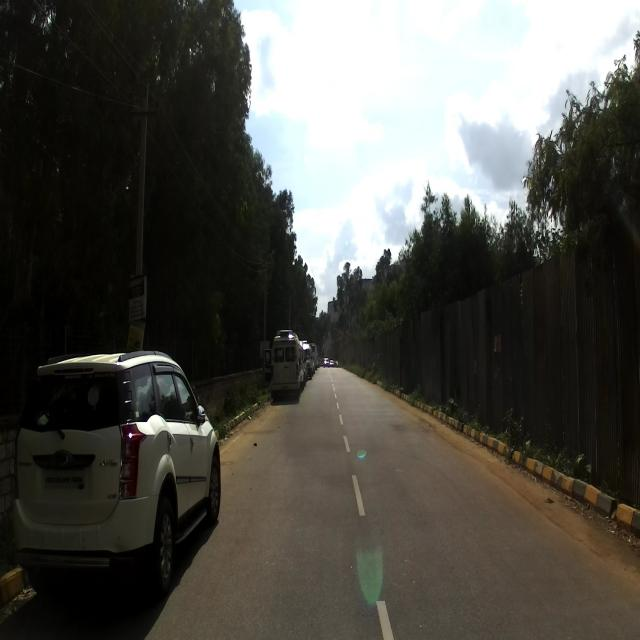car: (12, 350, 220, 596)
